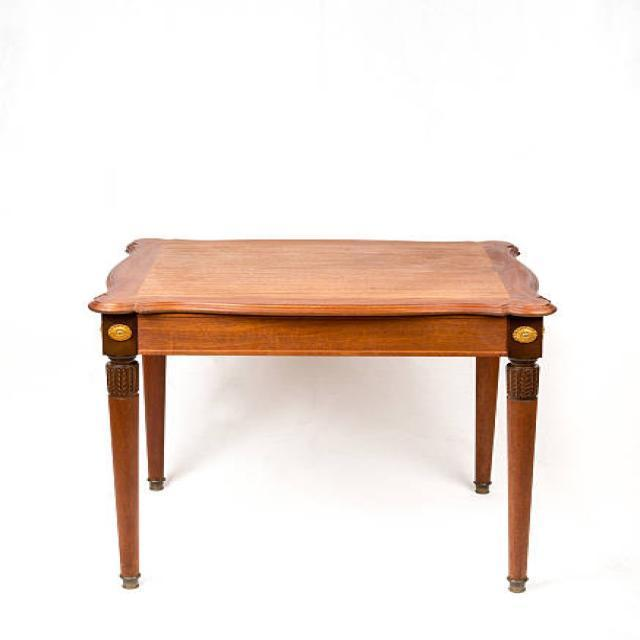table: (86, 236, 556, 593)
